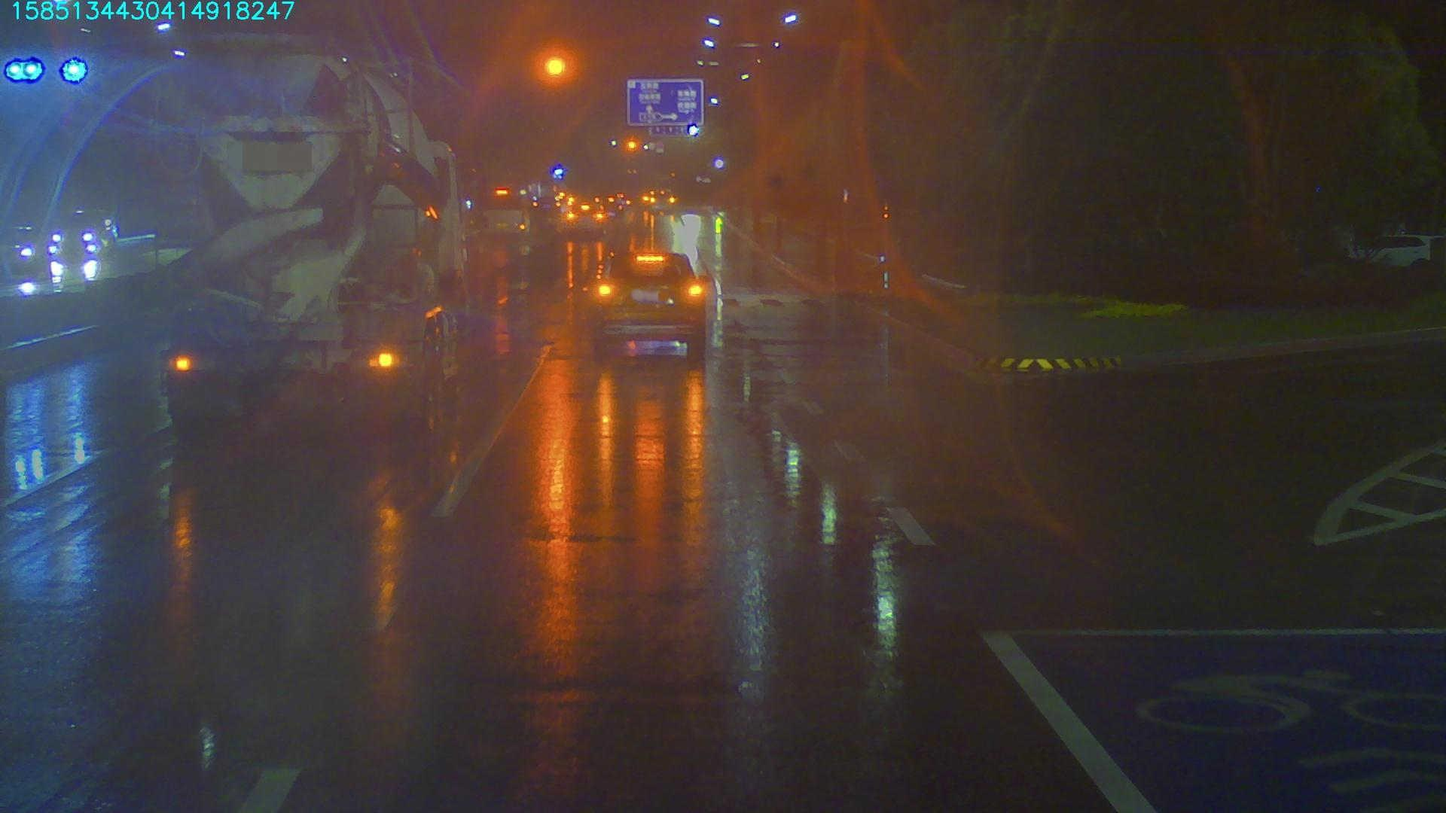red: (540, 51, 572, 83)
